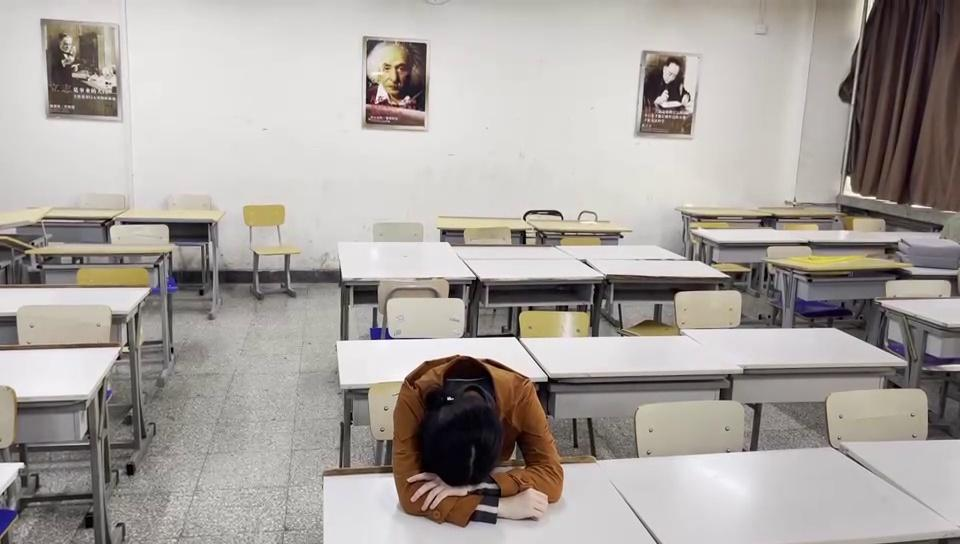sleep: (394, 359, 558, 517)
